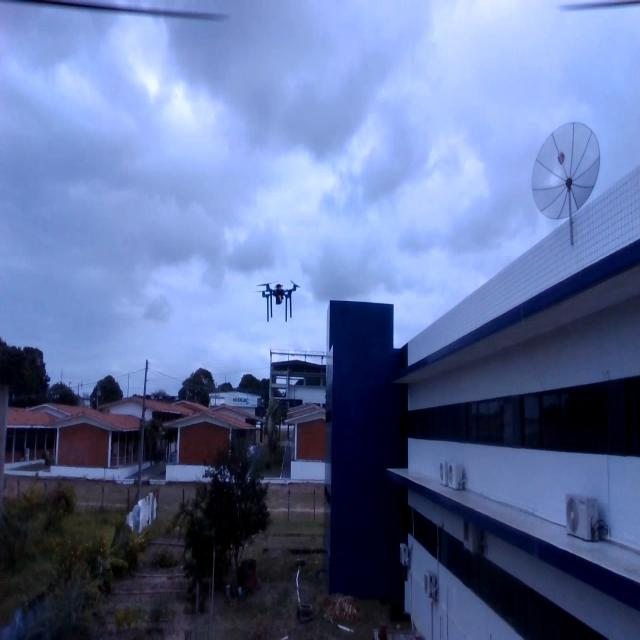-uav-: (251, 270, 304, 324)
